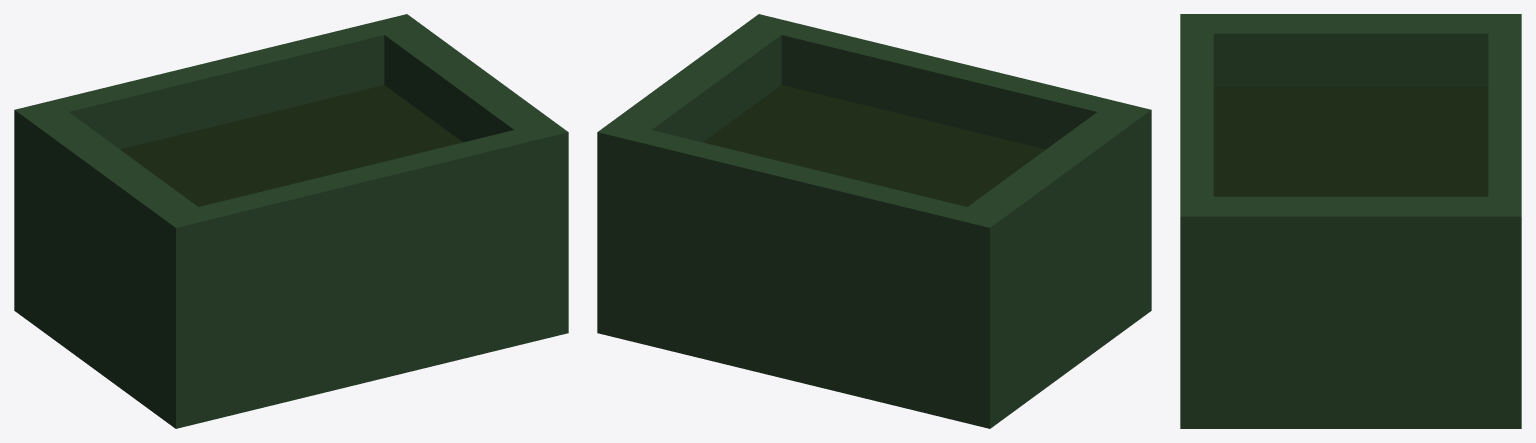
File: Greybox__Vaults.fbx
The picture shows the model from 3 angles, left to right: view 1: azimuth 30°, elevation 25°; view 2: azimuth 150°, elevation 25°; view 3: azimuth 270°, elevation 25°; orthographic projection. The views are drawn at different scales.
Parts seen in each view (by area): view 1: Vault; view 2: Vault; view 3: Vault.
Boxes of the visible parts, <box> form: Vault: <box>14,14,568,428</box>; Vault: <box>597,14,1151,428</box>; Vault: <box>1180,14,1521,428</box>.
Bounding box in the file's own units: 99.99 × 48.91 × 71.2.
